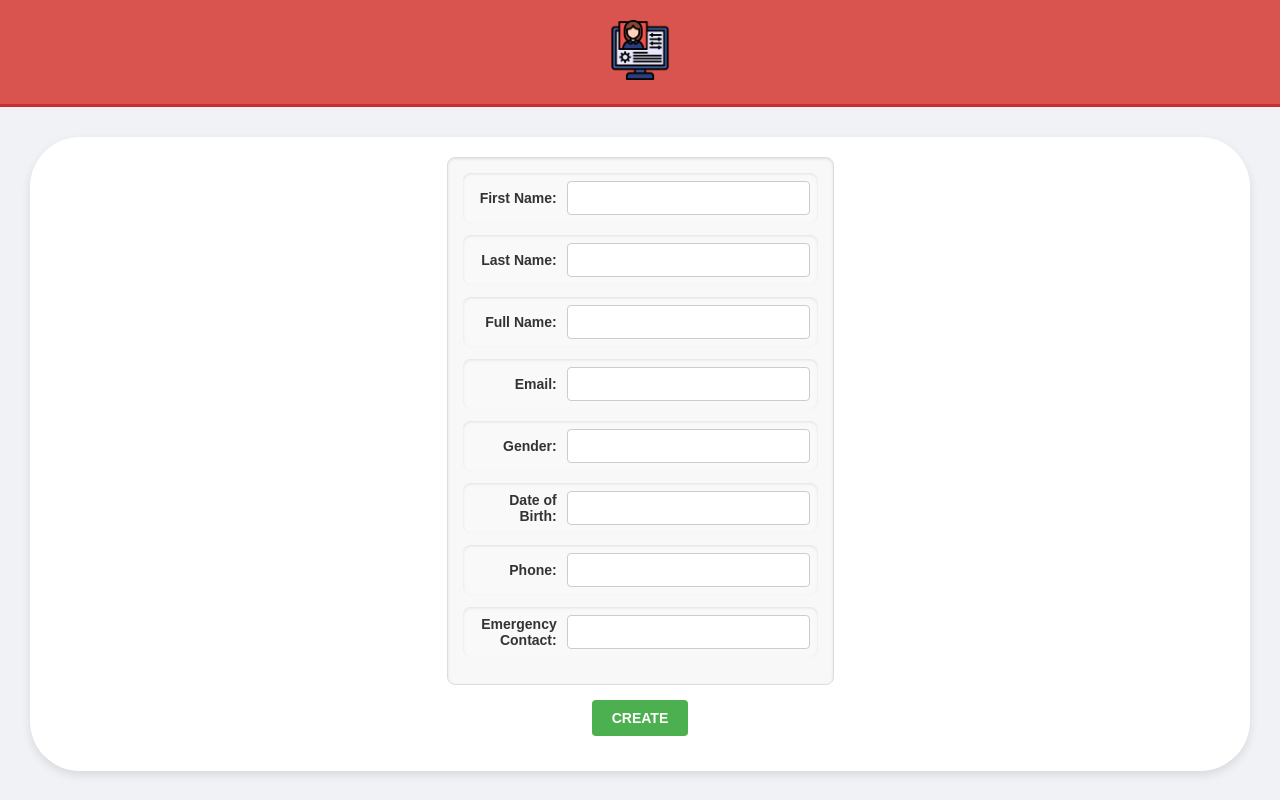
Admin Create Patient Panel › should display missing phone if no phone
This screenshot has width=1280, height=800.
Type "John" into the field with id "input1" at (689, 198), box [567, 181, 810, 215]
Type "Doe" into the field with id "input2" at (689, 260), box [567, 243, 810, 277]
Type "John Doe" into the field with id "input3" at (689, 322), box [567, 305, 810, 339]
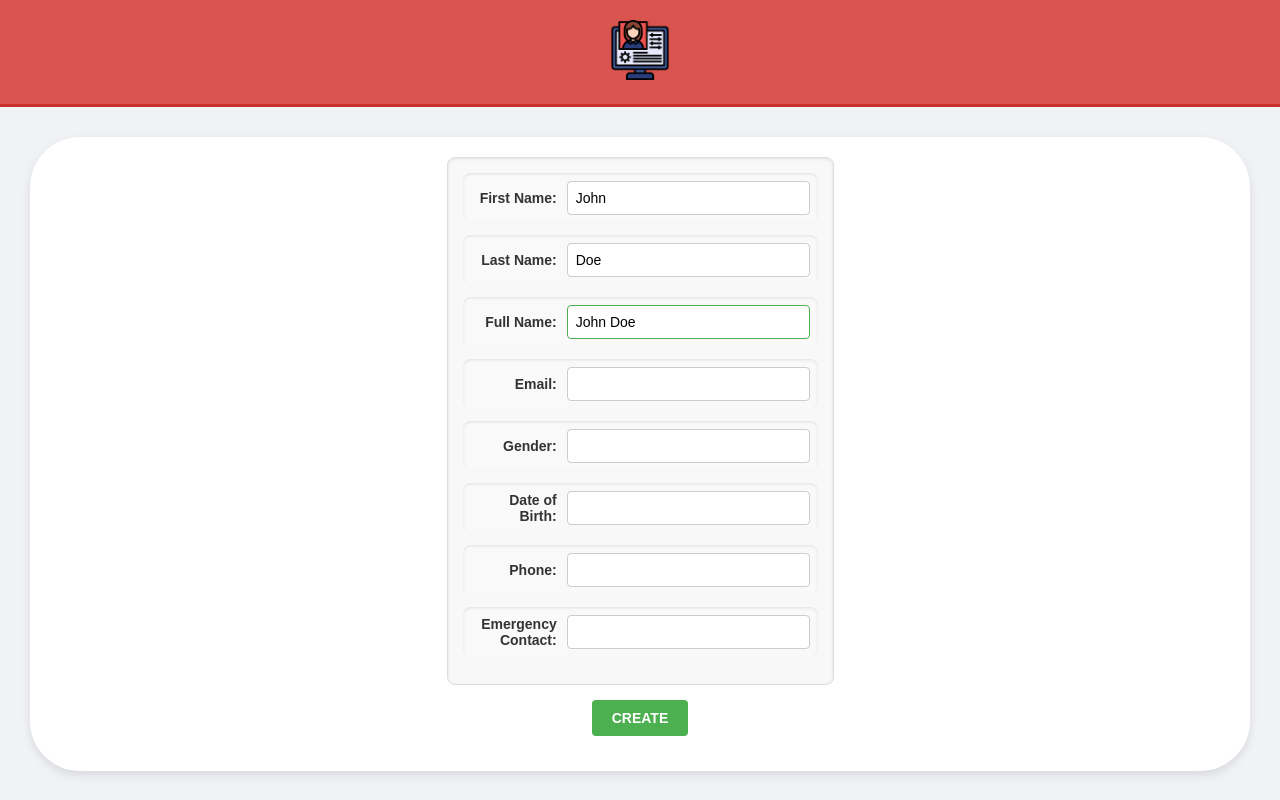
Type "johndoe@example.com" into the field with id "input4" at (689, 384), box [567, 367, 810, 401]
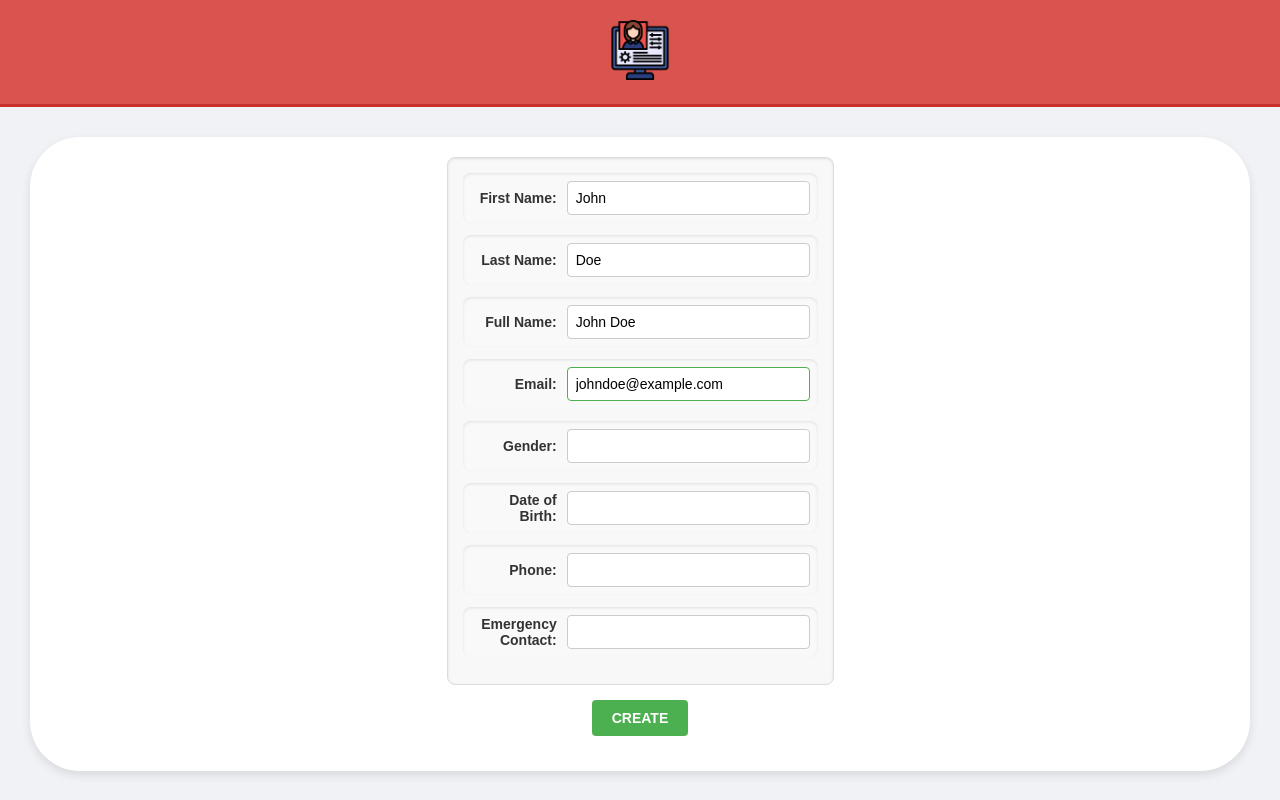
Type "Male" into the field with id "input5" at (689, 446), box [567, 429, 810, 463]
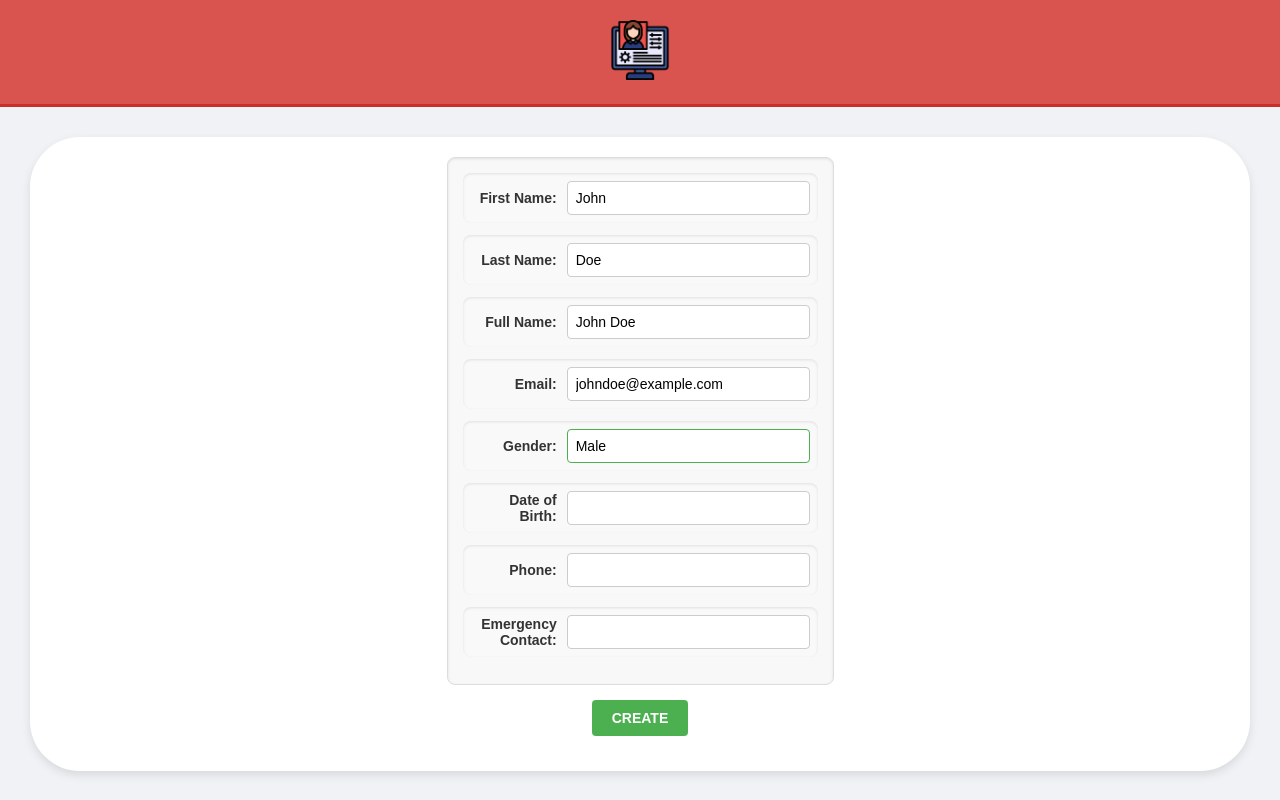
Type "1980-01-01" into the field with id "input6" at (689, 508), box [567, 491, 810, 525]
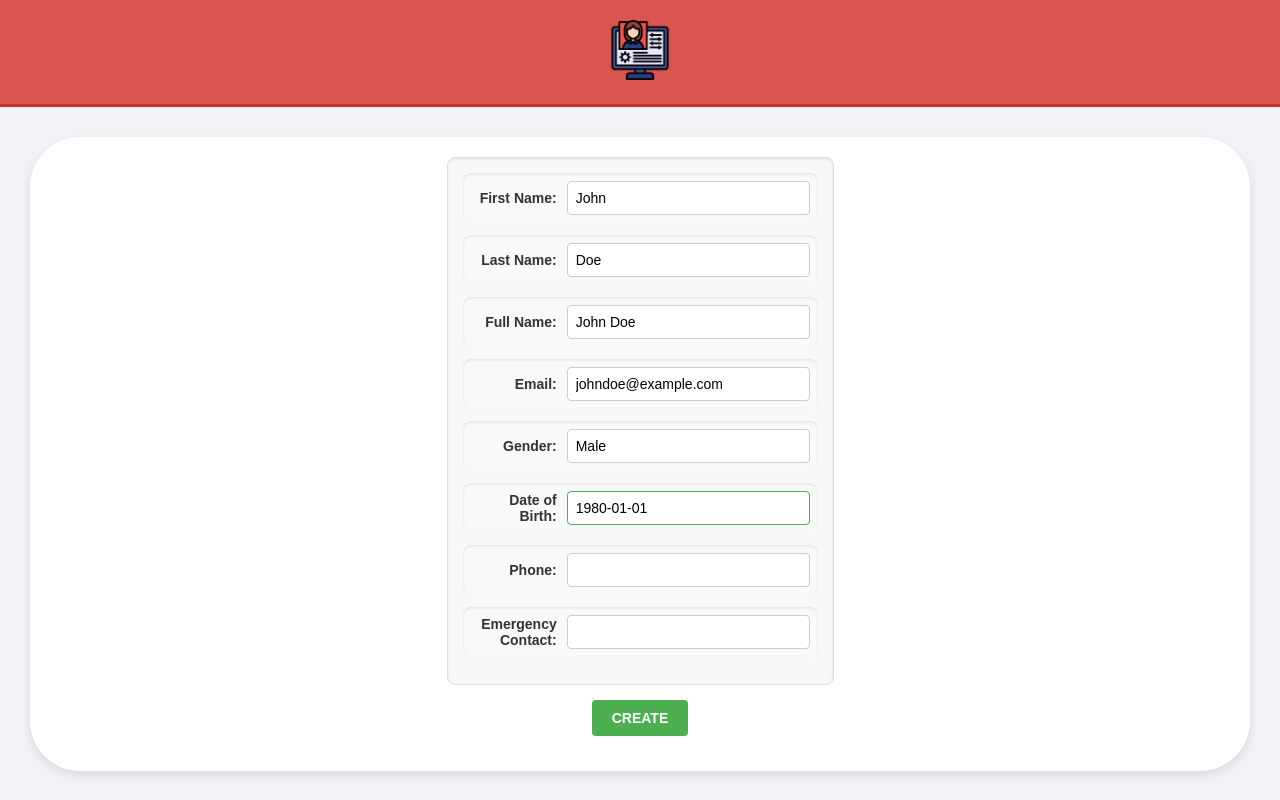
Type "919505891" into the field with id "input8" at (689, 632), box [567, 615, 810, 649]
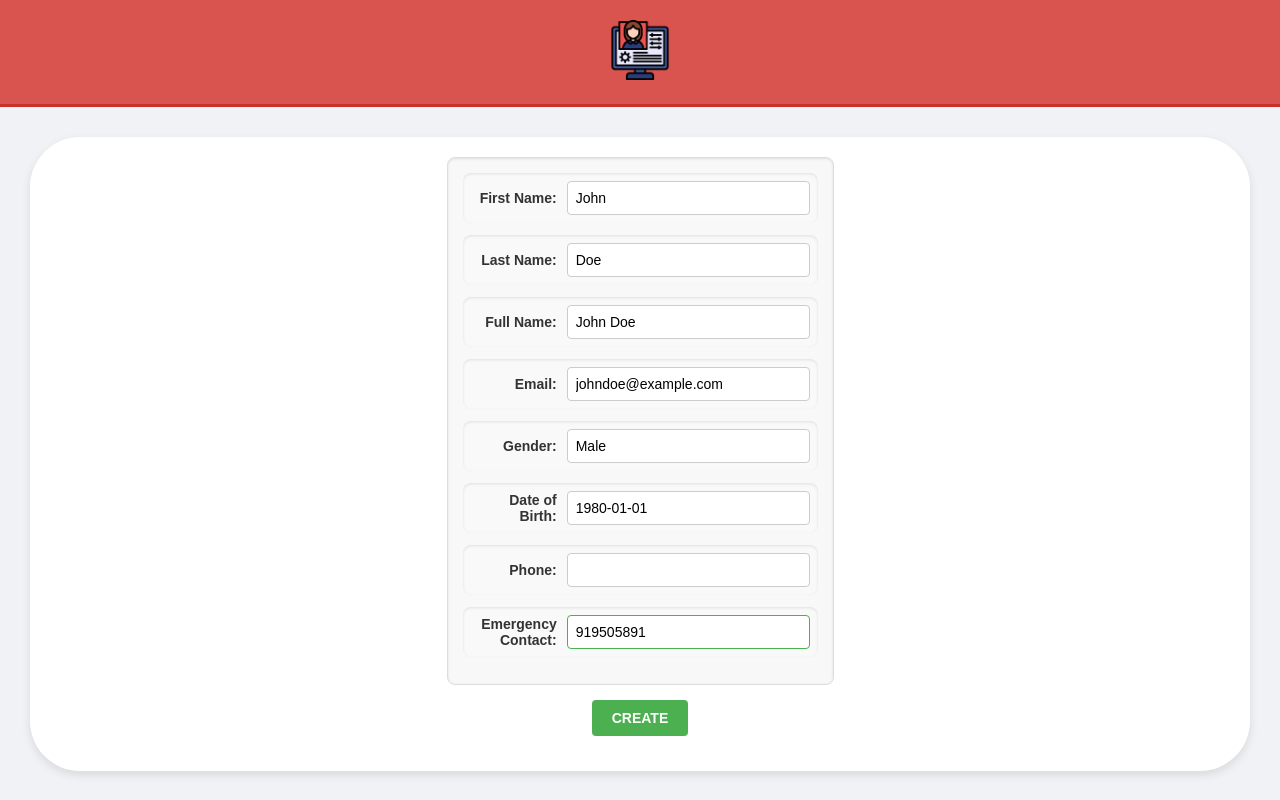
# Click the 'CREATE' button
Click the button with class "update" at (641, 718), box [592, 700, 689, 736]
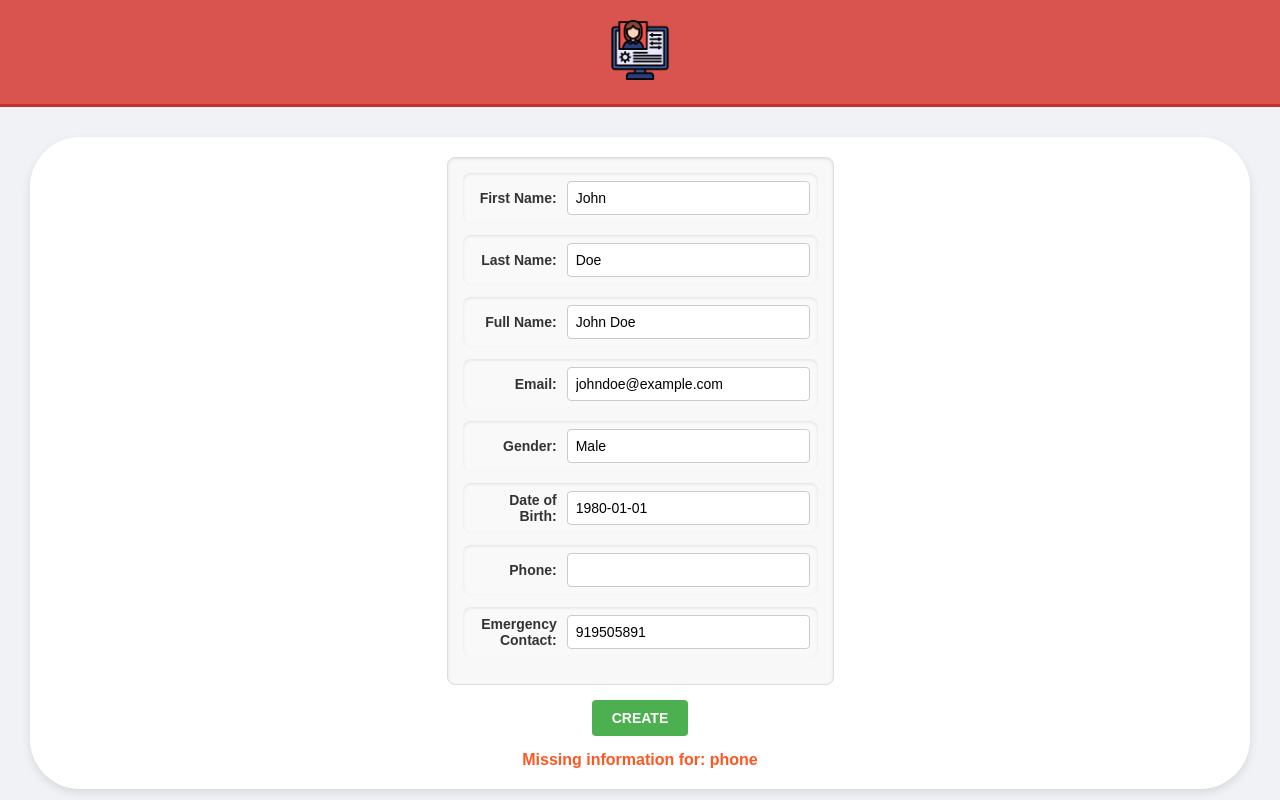
expect the text "Missing information for:" reads "Missing information for: phone": met, box [522, 751, 758, 768]
